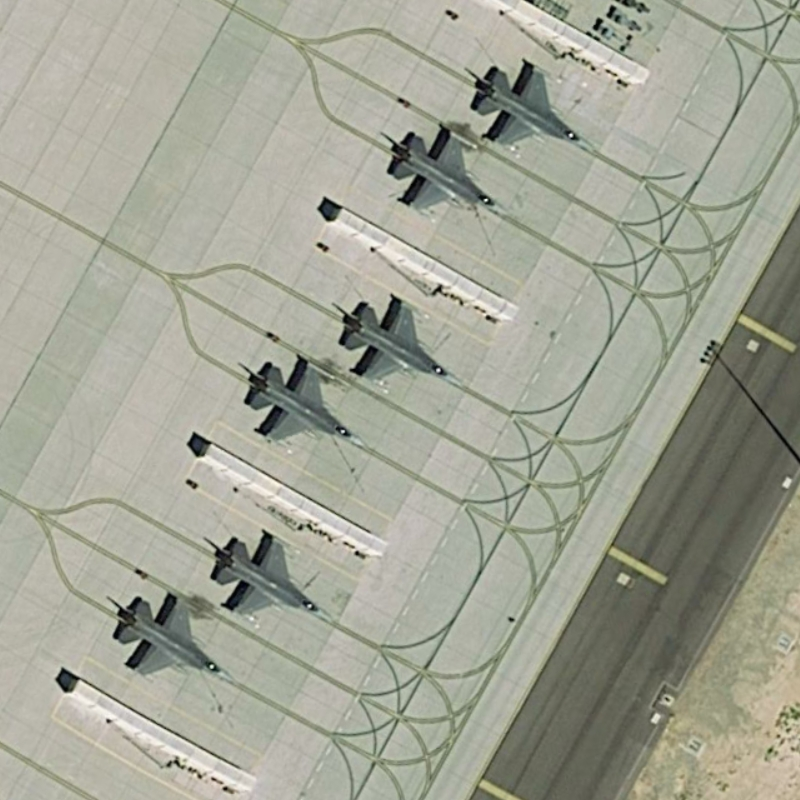A5: (199, 522, 337, 633), (326, 290, 467, 394), (230, 351, 370, 455), (106, 586, 237, 694), (377, 120, 506, 228), (460, 54, 596, 155)
